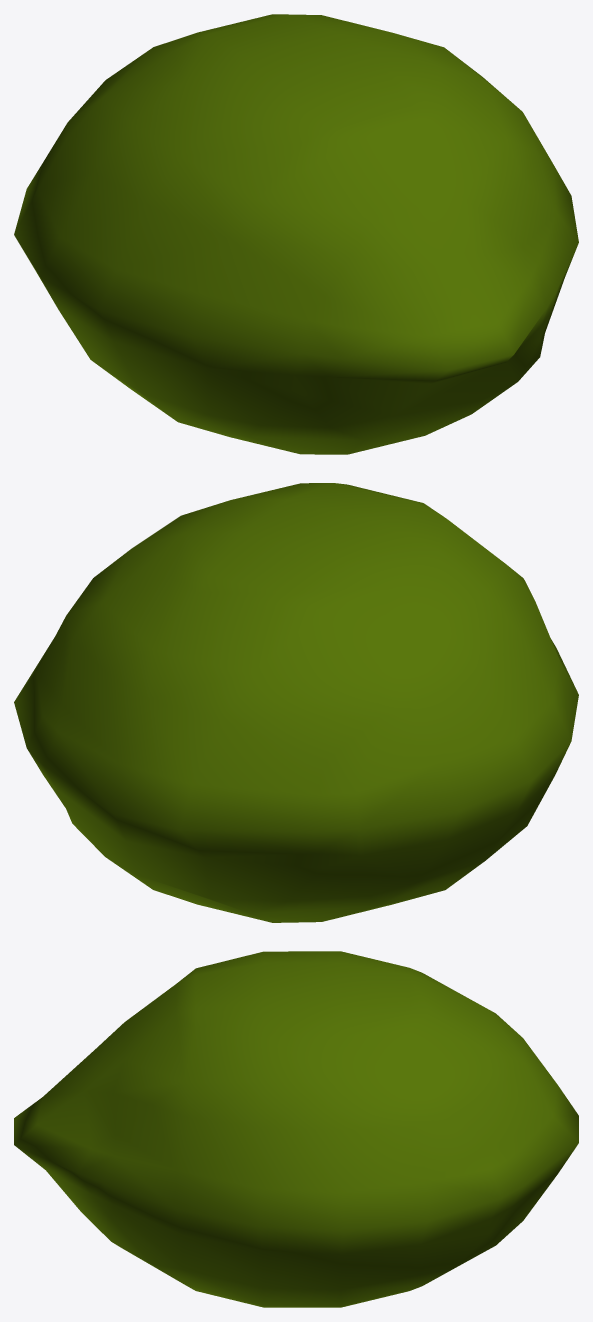
File: 0 Cannibis seed.fbx
3 views of the same model, one above another, from view 1: azimuth 30°, elevation 25°; view 2: azimuth 150°, elevation 25°; view 3: azimuth 270°, elevation 25° (orthographic). The views are drawn at different scales.
Visible parts, largest first — view 1: Mball.001; view 2: Mball.001; view 3: Mball.001.
Part boxes in pixels (<box>): Mball.001: <box>14,14,578,454</box>; Mball.001: <box>14,483,578,922</box>; Mball.001: <box>14,951,578,1307</box>.
Size of the model in its own units: 26.89 by 18.2 by 31.67.
